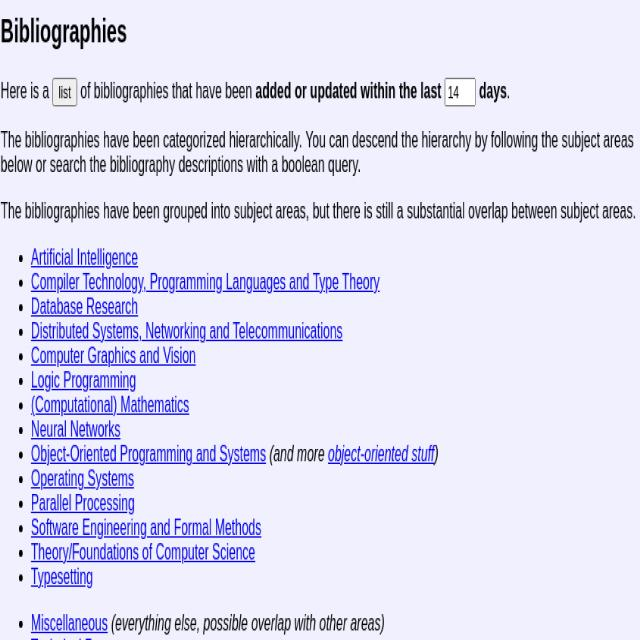field: (445, 80, 475, 106), (52, 76, 77, 105)
